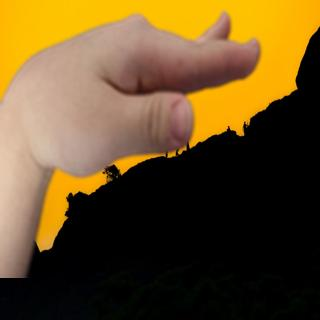Wait: (0, 10, 271, 182)
